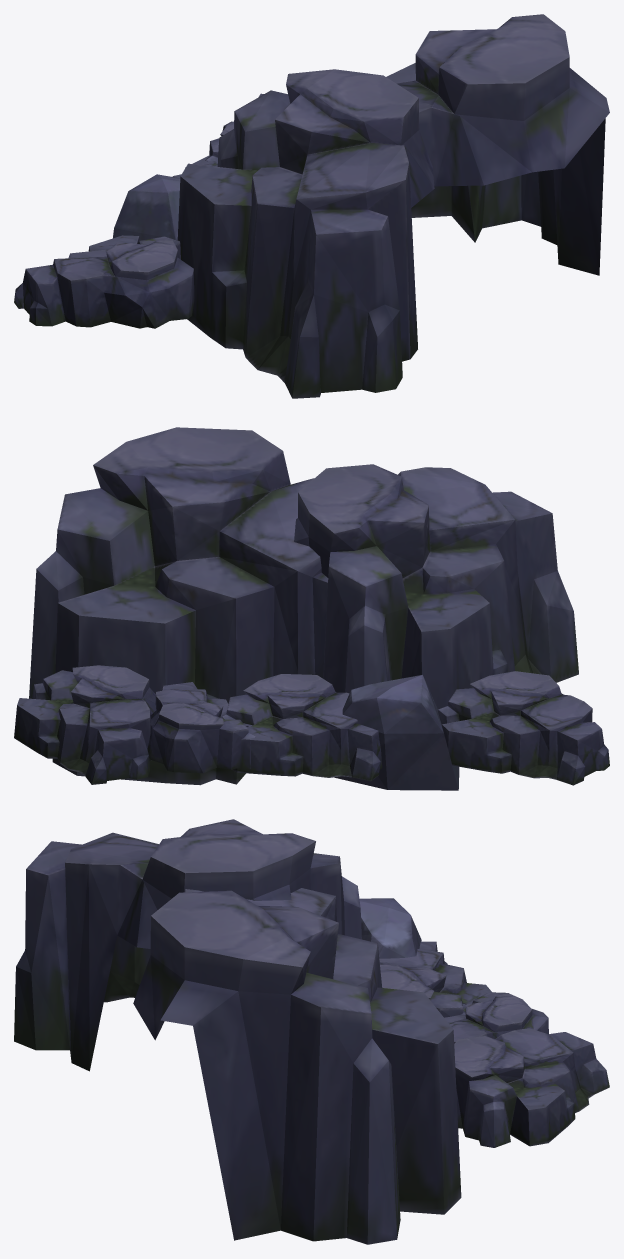
The model's file is Area05_6.fbx.
3 views of the same model, one above another, from view 1: azimuth 30°, elevation 25°; view 2: azimuth 150°, elevation 25°; view 3: azimuth 270°, elevation 25° (orthographic). The views are drawn at different scales.
Parts seen in each view (by area): view 1: Area05_6; view 2: Area05_6; view 3: Area05_6.
Part boxes in pixels (x1,y1,x2,y2): Area05_6: (14, 14, 609, 398); Area05_6: (14, 427, 609, 790); Area05_6: (14, 819, 609, 1244).
Size of the model in its own units: 3595 by 1564 by 3178.
